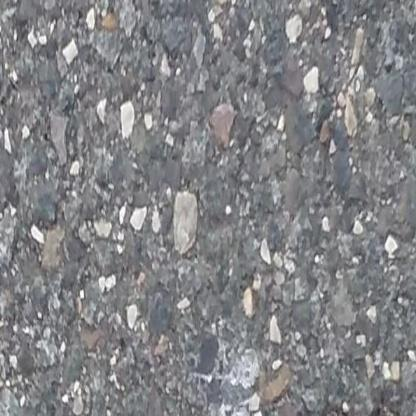Cracks: (312, 401, 416, 416)
